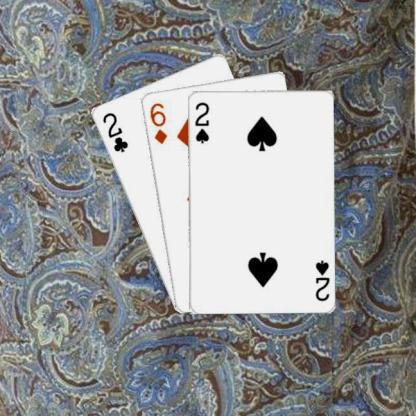2C: (99, 109, 129, 154)
2S: (191, 99, 210, 144), (312, 257, 331, 302)
6D: (146, 100, 168, 145)
